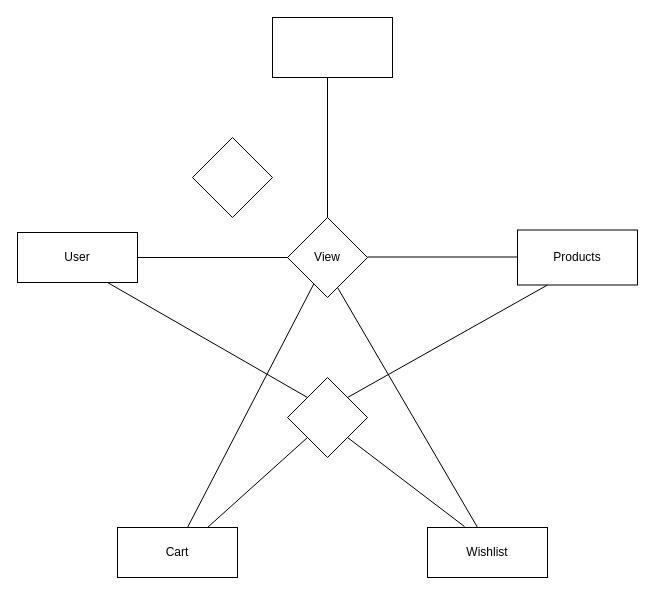
Some shapes in this 655 by 595 pixel diagram are drawn without their labels. The shapes that lost their labels are listed below. From the top down, each one's centre as x and y in pixels, then its label:
point (332, 47): Order
point (232, 177): Purchase
point (327, 417): Add
